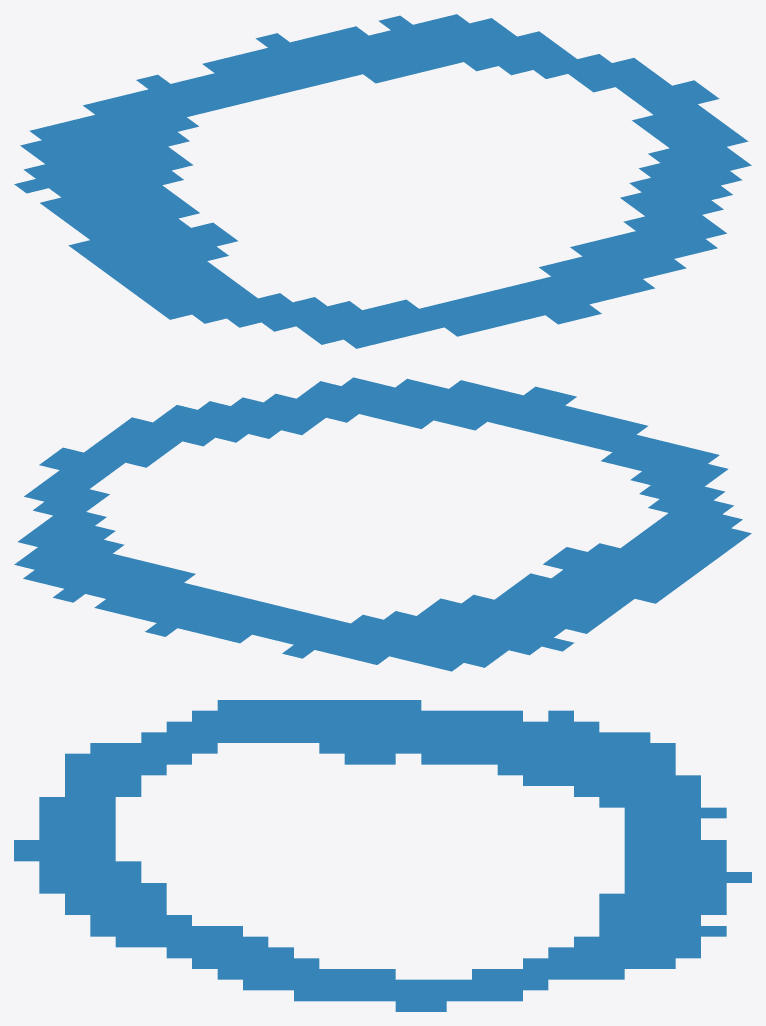
Rendered from Isl-islet4-PlaceForWaterObjects.fbx.
3 renders of one model, top to bottom at view 1: azimuth 30°, elevation 25°; view 2: azimuth 150°, elevation 25°; view 3: azimuth 270°, elevation 25°, orthographic. The views are drawn at different scales.
Visible parts, largest first — view 1: Isl-islet4-PlaceForWaterObjects; view 2: Isl-islet4-PlaceForWaterObjects; view 3: Isl-islet4-PlaceForWaterObjects.
Boxes of the visible parts, x1=… form: Isl-islet4-PlaceForWaterObjects: x1=14, y1=14, x2=751, y2=348; Isl-islet4-PlaceForWaterObjects: x1=14, y1=377, x2=751, y2=671; Isl-islet4-PlaceForWaterObjects: x1=14, y1=700, x2=751, y2=1011.
Bounding box in the file's own units: 29 × 0 × 29.
